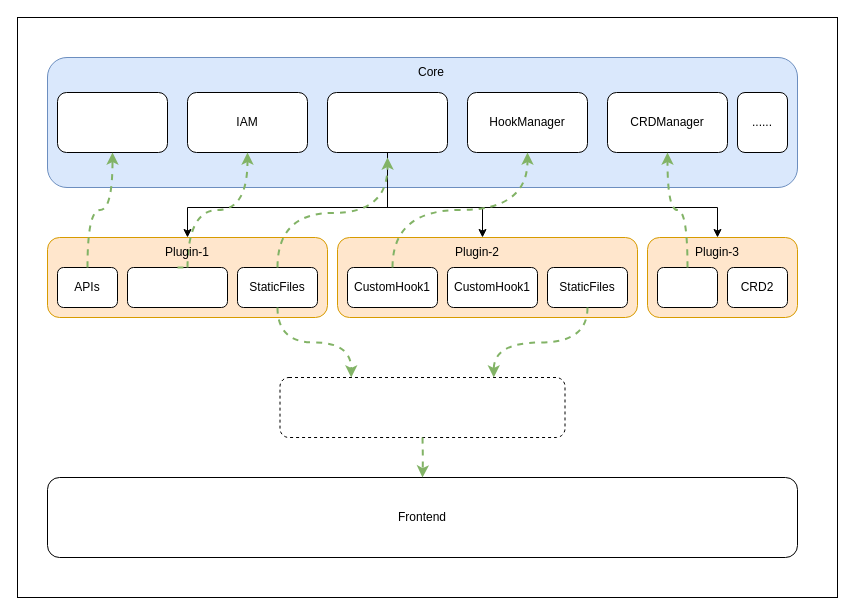
This 855x615 diagram has some shape labels left out. Each missing label, with the box of its shape:
CRD1: (656, 266, 718, 308)
Load remote components: (279, 376, 565, 438)
PluginManager: (326, 92, 448, 152)
RoleTemplates: (126, 266, 228, 308)
RouterManager: (56, 92, 168, 152)
